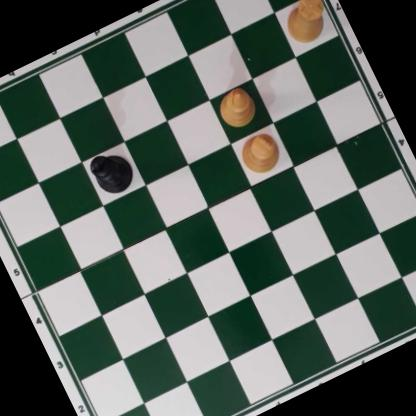black-king: (87, 145, 138, 200)
white-bishop: (213, 83, 260, 133)
white-king: (233, 128, 285, 181)
white-rook: (278, 0, 336, 48)
